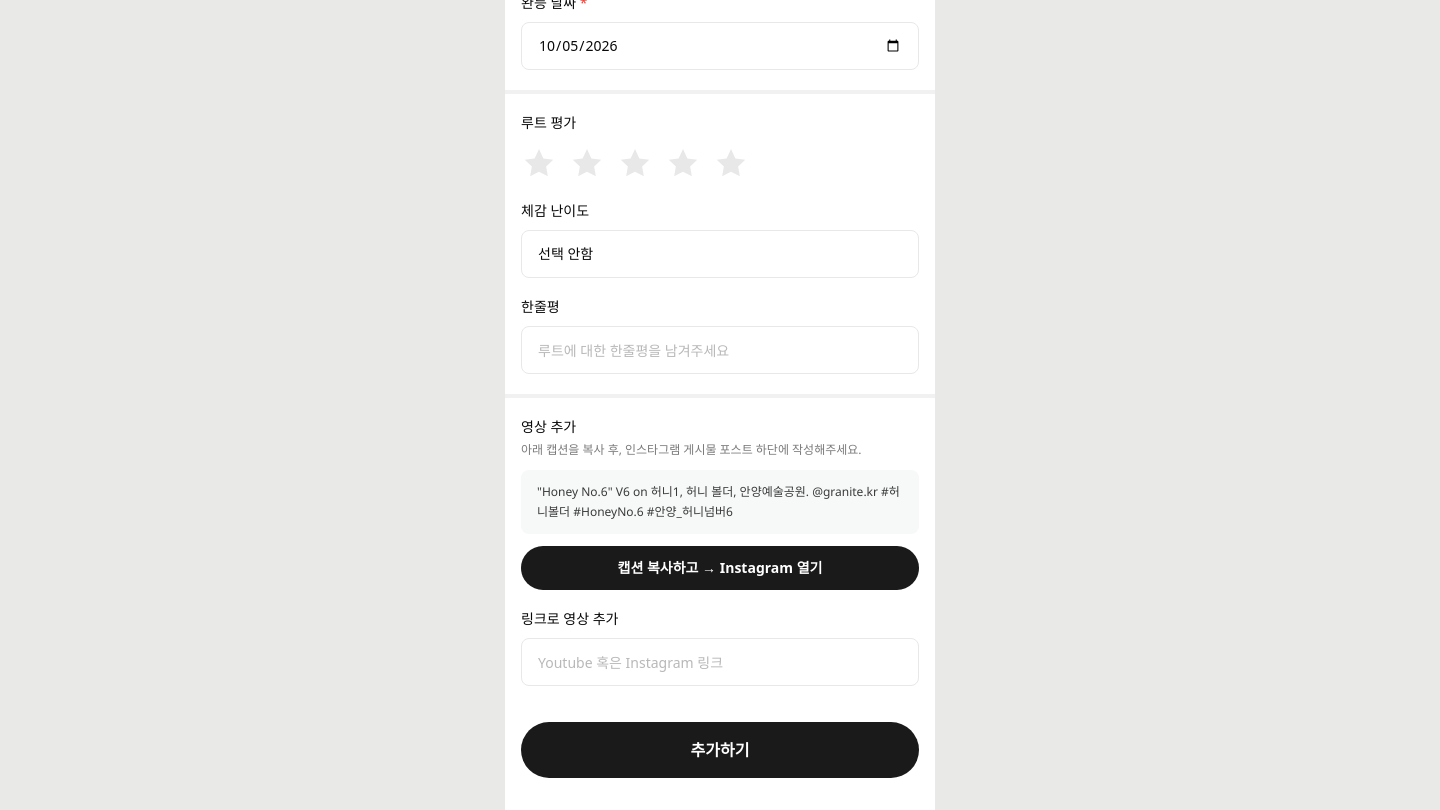
Test: AddRecordDialog › shows the failure message and stays open
(page scrolled)
Click the button "추가하기" at (720,750), box [521,722,919,778]
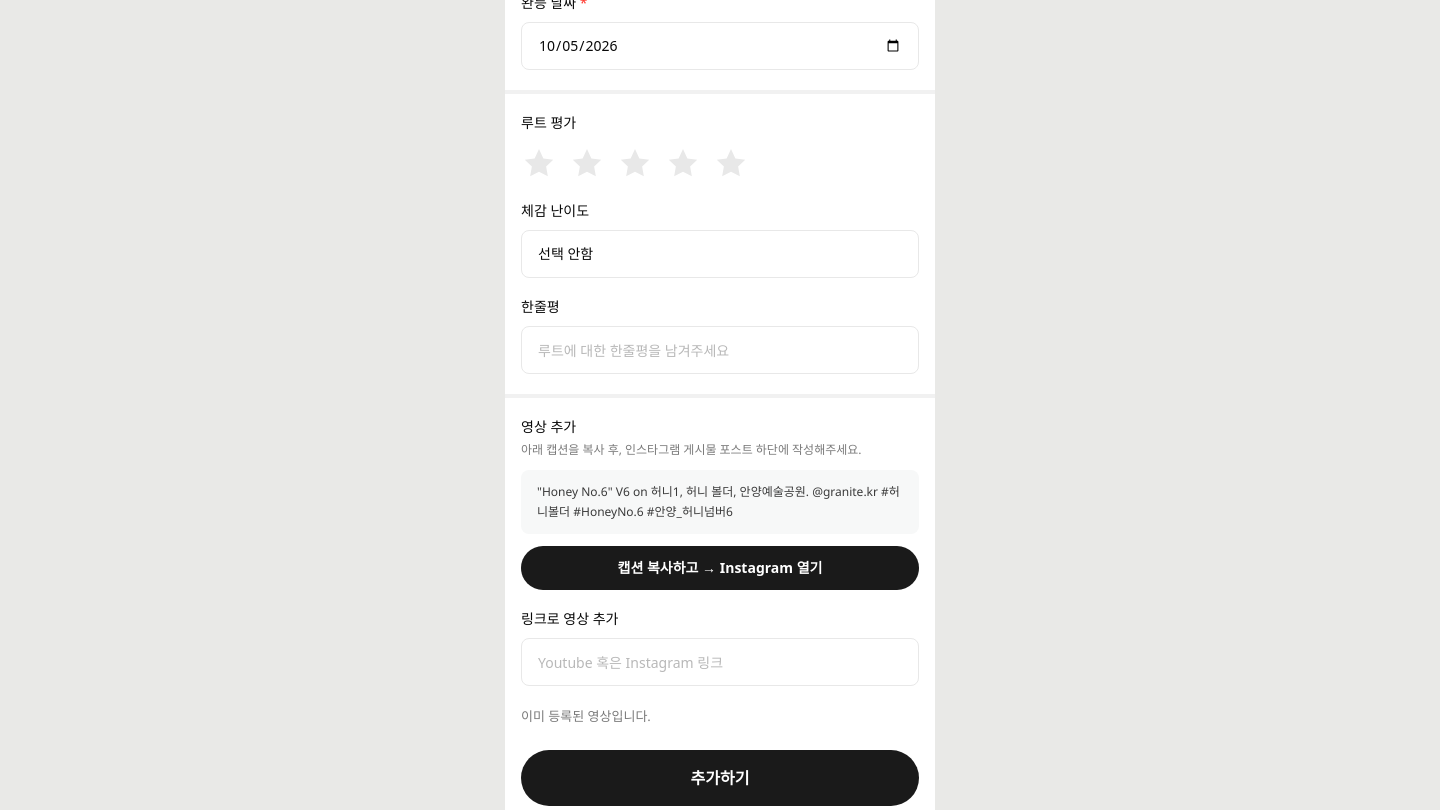
Check: the text "이미 등록된 영상입니다." is shown, box [521,707,651,725]
